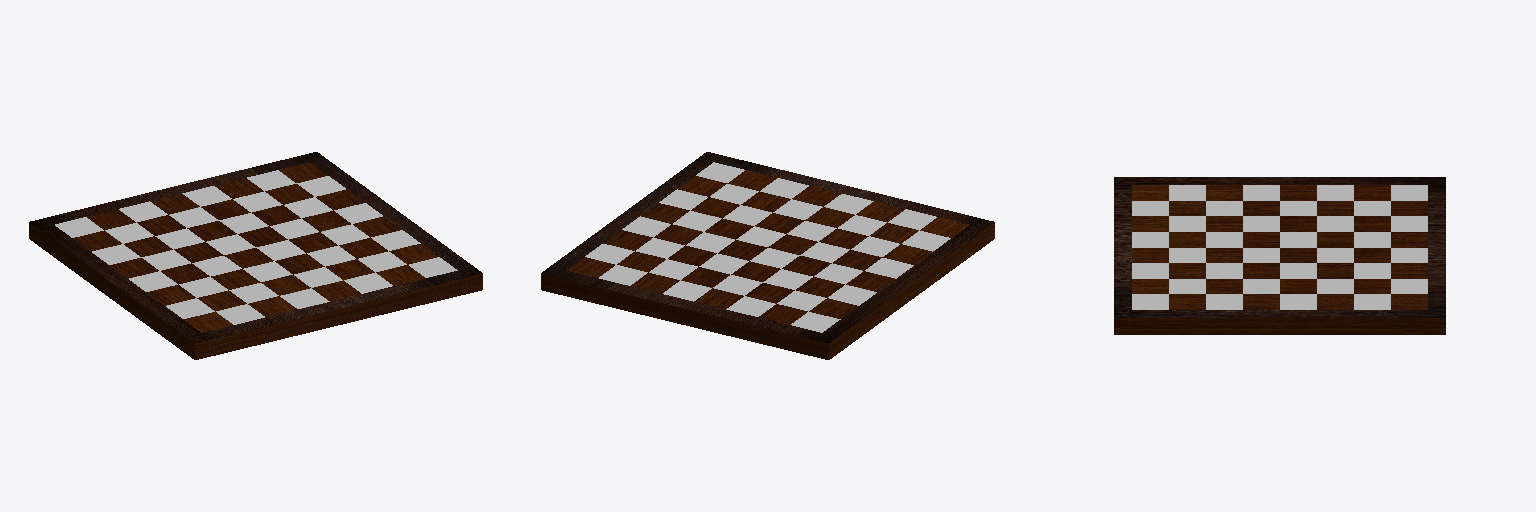
3 renders of one model, left to right at view 1: azimuth 30°, elevation 25°; view 2: azimuth 150°, elevation 25°; view 3: azimuth 270°, elevation 25°, orthographic.
Visible parts, largest first — view 1: Tablero; view 2: Tablero; view 3: Tablero.
Part boxes in pixels (x1,y1,x2,y2): Tablero: (29,152,482,359); Tablero: (541,152,994,359); Tablero: (1114,177,1445,334).
Bounding box in the file's own units: 5.4 × 0.3015 × 5.4.
Materials: 3 (2 with a texture image).